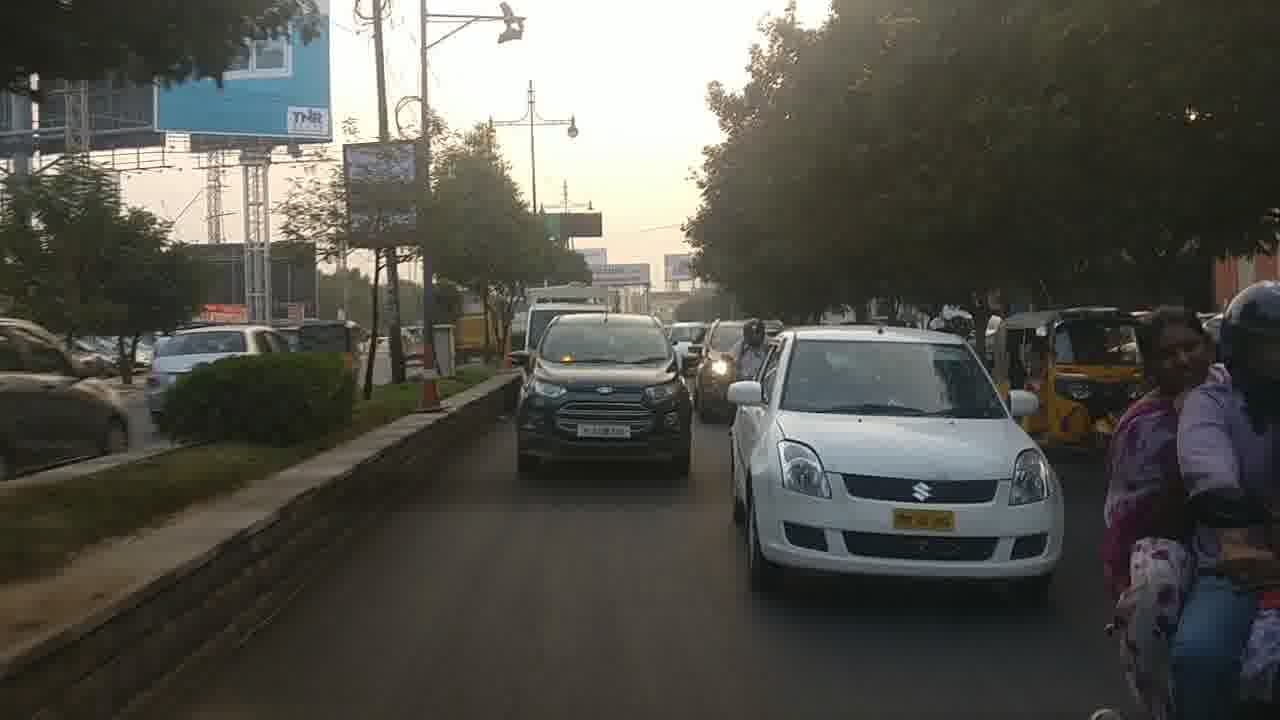swift desire: (736, 329, 1059, 573)
